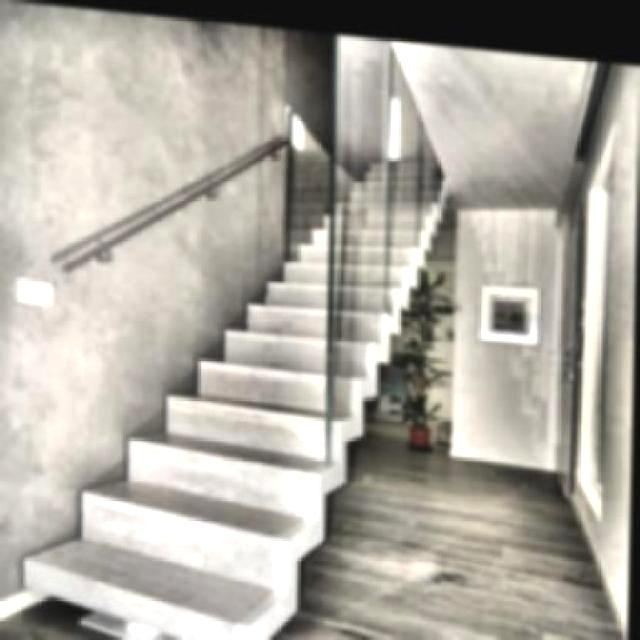stair: (120, 164, 398, 550)
